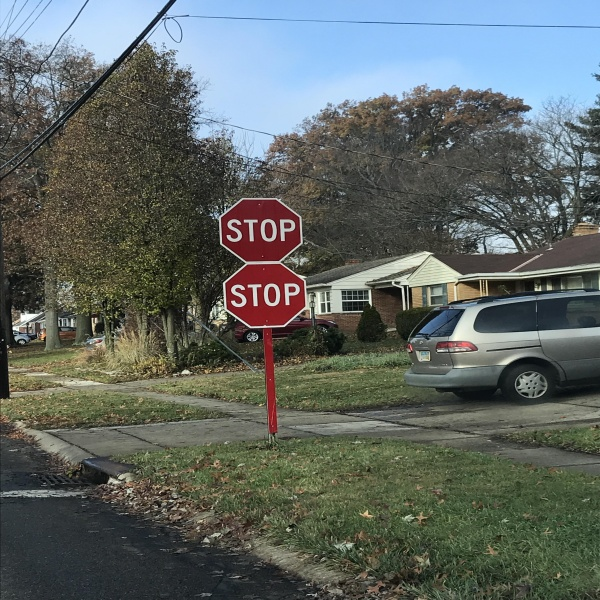stop: (221, 194, 304, 260), (223, 262, 306, 328)
